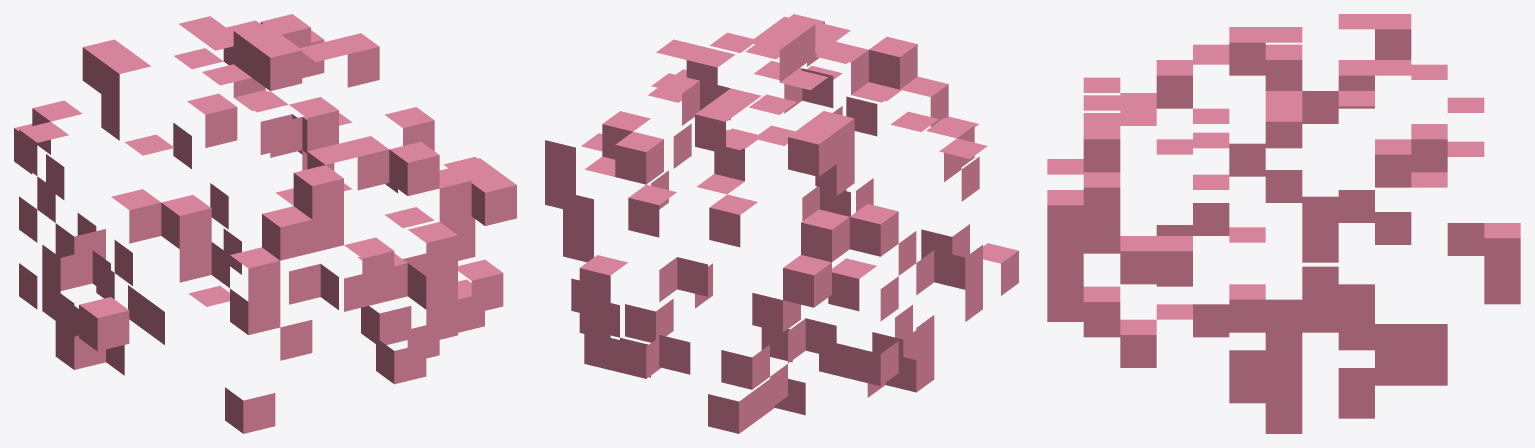
File: tree-cherry-1-pink2-f28fab.gltf
3 renders of one model, left to right at view 1: azimuth 30°, elevation 25°; view 2: azimuth 150°, elevation 25°; view 3: azimuth 270°, elevation 25°, orthographic. The views are drawn at different scales.
Parts seen in each view (by area): view 1: tree-cherry-1-pink2-f28fab; view 2: tree-cherry-1-pink2-f28fab; view 3: tree-cherry-1-pink2-f28fab.
Boxes of the visible parts, box(x1,y1,x2,y2) form: tree-cherry-1-pink2-f28fab: box(14, 14, 516, 433); tree-cherry-1-pink2-f28fab: box(545, 14, 1018, 433); tree-cherry-1-pink2-f28fab: box(1047, 14, 1520, 433).
Size of the model in its own units: 13 by 10 by 13.
